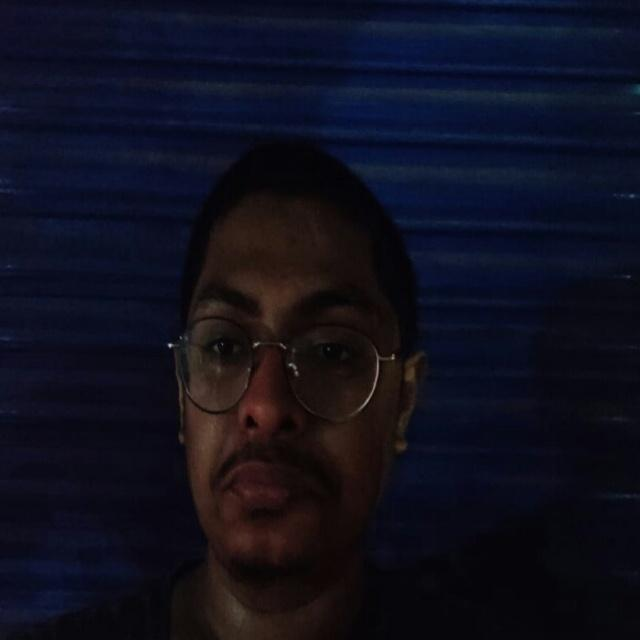Sad: (165, 176, 427, 595)
